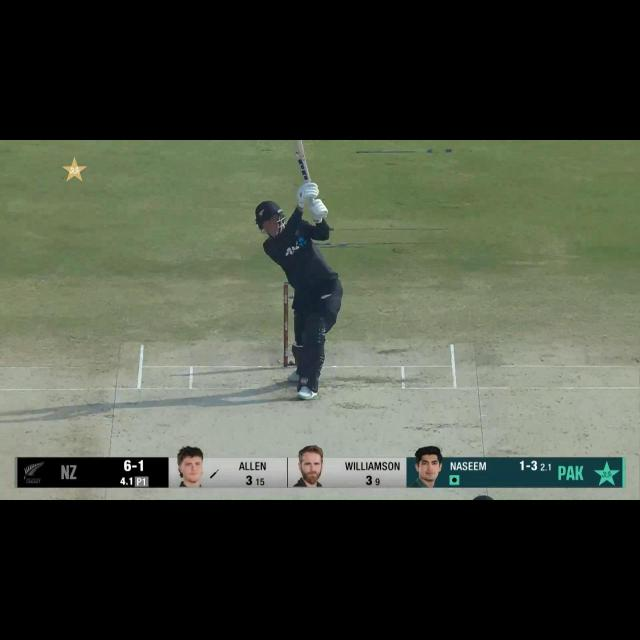bat: (294, 139, 311, 184)
toe: (291, 139, 305, 147)
